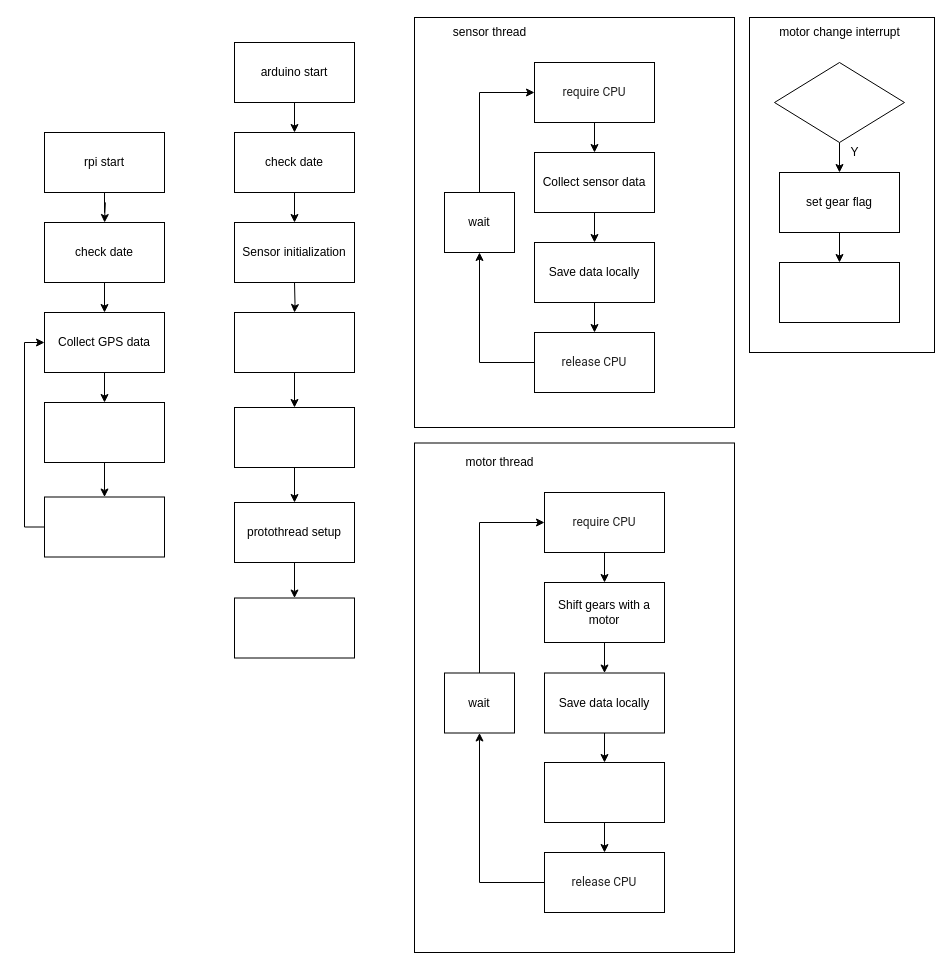
Image size: 952x970. Some labels were removed from this diagram. Each missing label, with the centre of its shape:
"clear gear flag" belongs at pixel 604 792.
"Collect speed data" belongs at pixel 104 432.
"gear flag=0" belongs at pixel 839 102.
"gear variable change" belongs at pixel 839 292.
"motor change interrupt setup" belongs at pixel 294 437.
"Motor initialization" belongs at pixel 294 342.
"Save data locally by time" belongs at pixel 104 526.
"start protothread" belongs at pixel 294 627.
